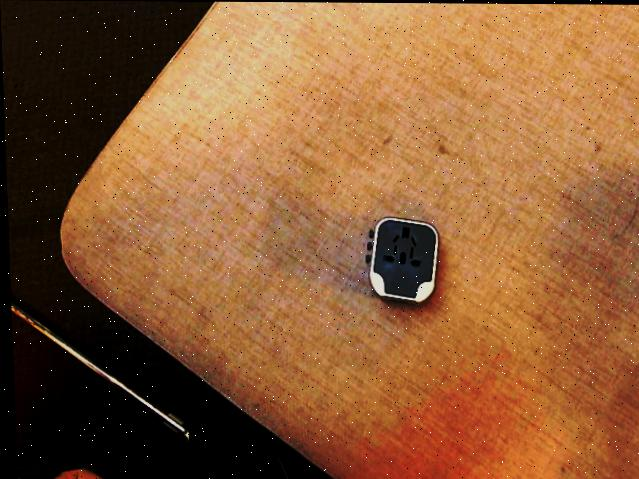adapter: (362, 216, 439, 303)
